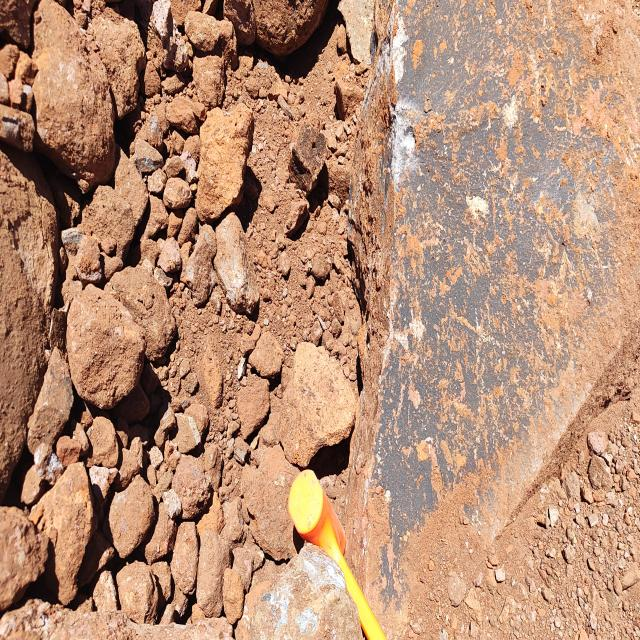Orange_hammer: (287, 467, 387, 639)
